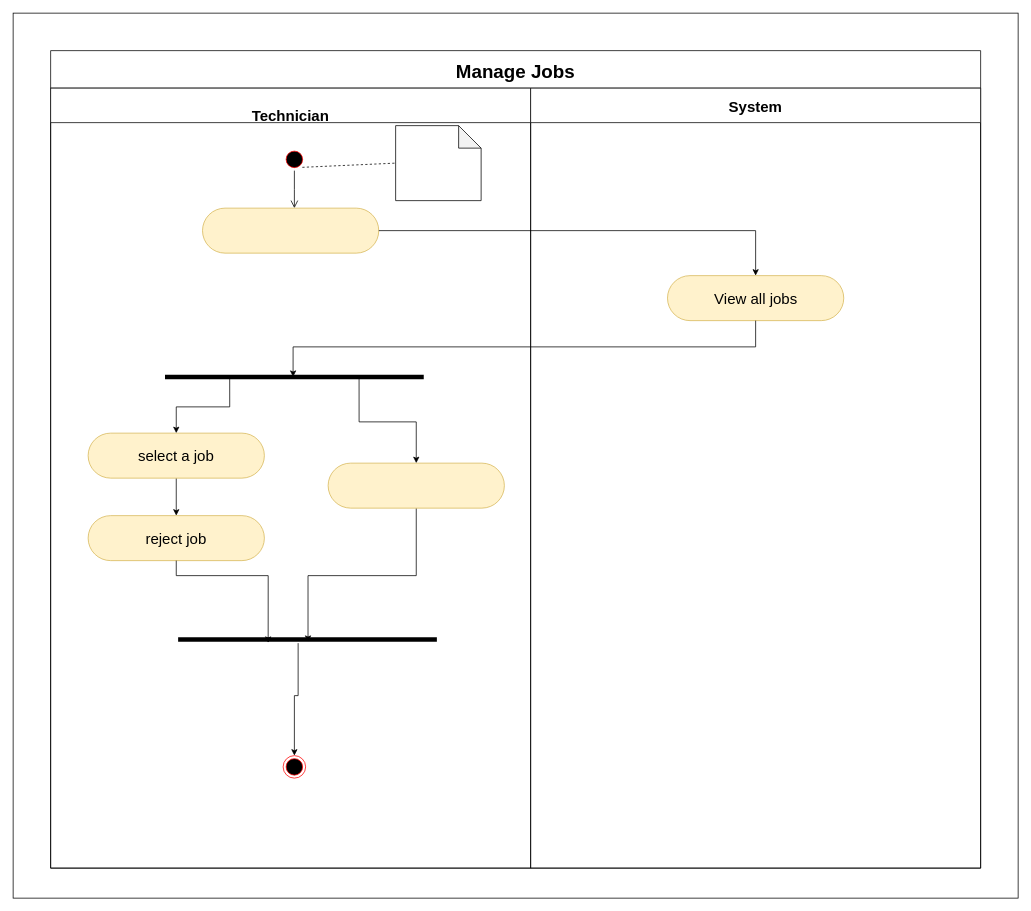
Image size: 1031x911. Some labels were removed from this diagram. The shapes that lost their labels are listed below. From the top down, each one's centre as x and y in pixels, then its label:
At [438,163]: "Technician logged in".
At [290,230]: "Navigate to the job section".
At [415,485]: "Schedule jobs".
